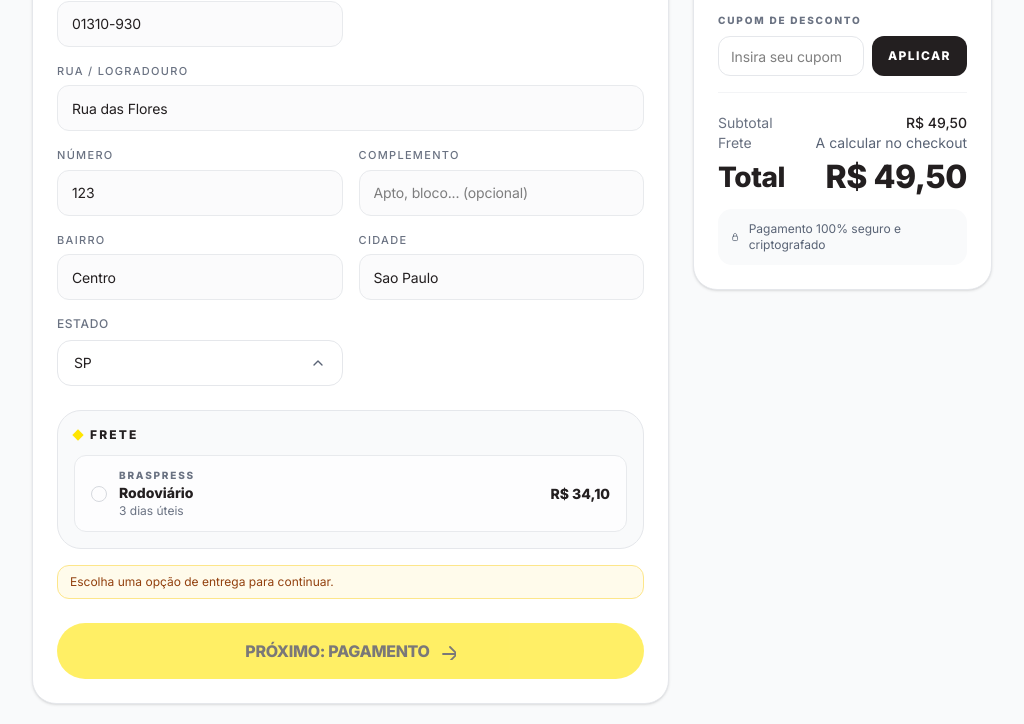
Scenario: CheckoutAddressStepContent › refuses to advance with an option whose quote validity already ran out
(page scrolled)
Step 1. Click the radio button labelled "Braspress Rodoviário 3 dias úteis R$ 34,10" → (157, 475), box [74,455,627,532]
(page scrolled)
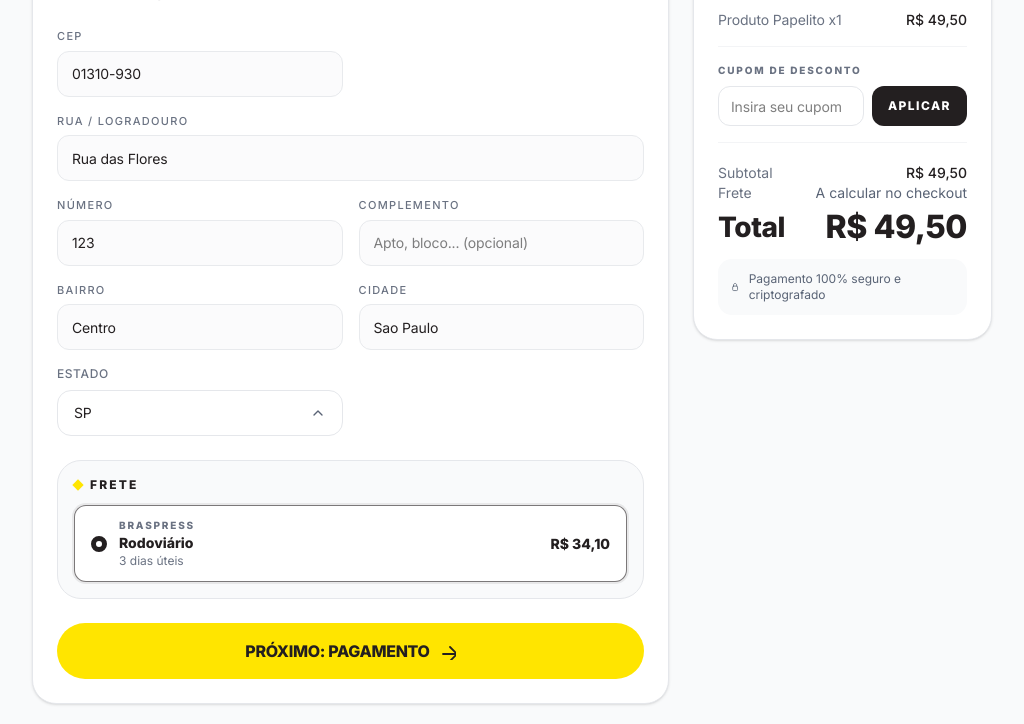
Step 2. Click the button "Próximo: Pagamento" → (350, 651), box [57,623,644,679]
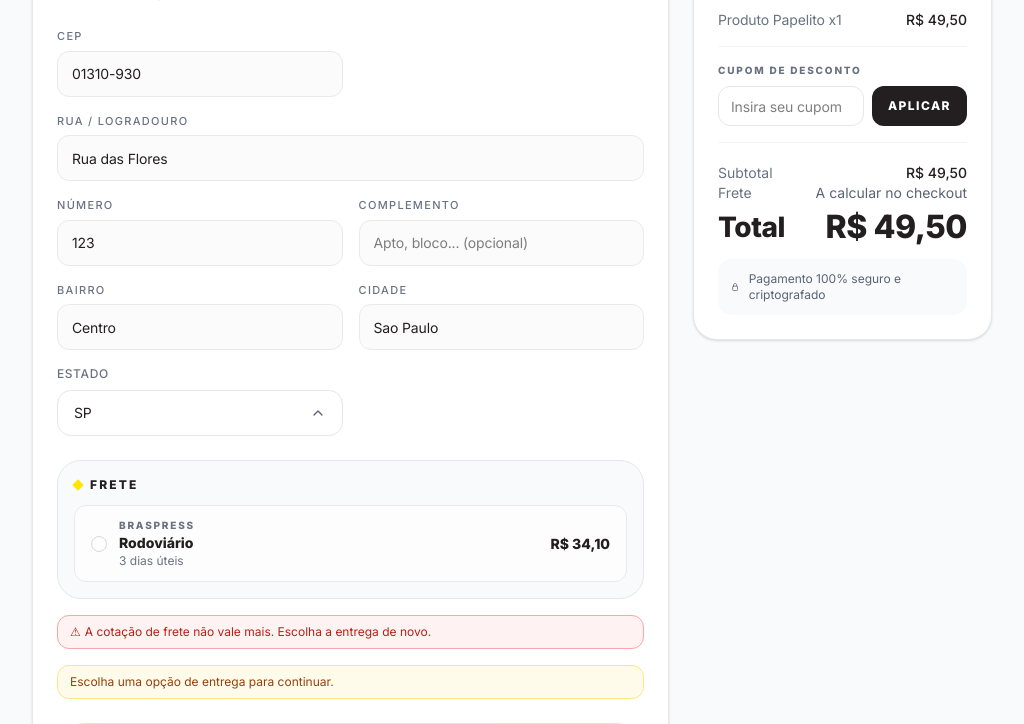
Check: the text "A cotação de frete não vale mais. Escolha a entrega de novo." is shown, box [85,624,431,640]
